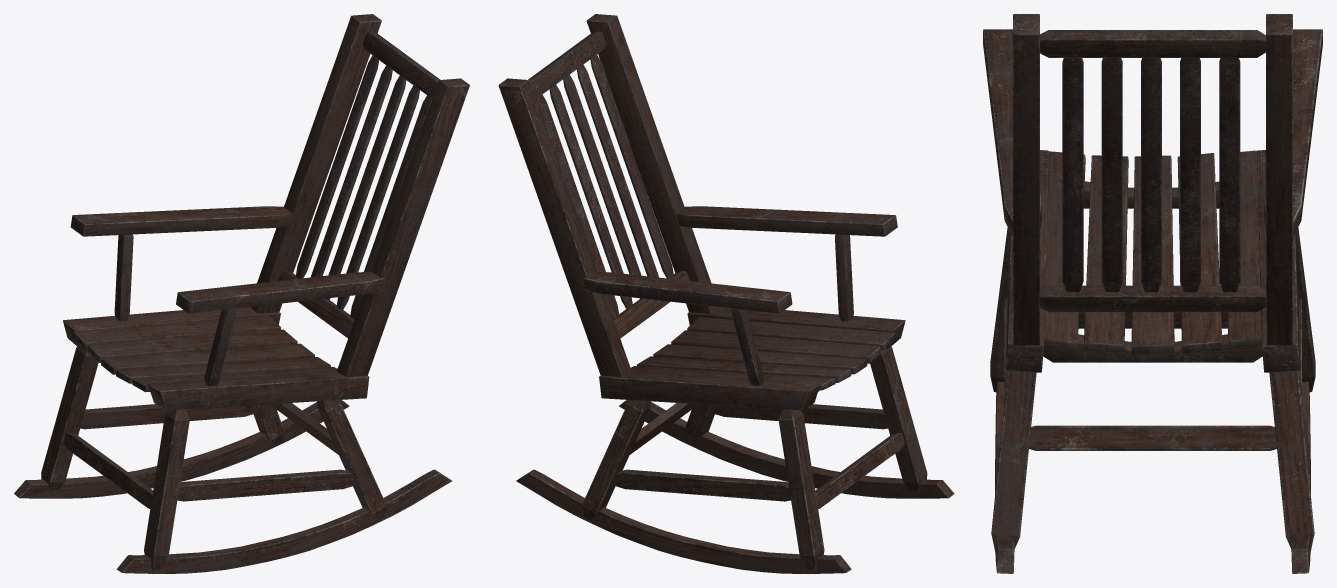
3 renders of one model, left to right at view 1: azimuth 30°, elevation 25°; view 2: azimuth 150°, elevation 25°; view 3: azimuth 270°, elevation 25°, orthographic. The views are drawn at different scales.
Visible parts, largest first — view 1: SideSlateSupports; view 2: SideSlateSupports; view 3: SideSlateSupports.
Part boxes in pixels (x1=…): SideSlateSupports: x1=14, y1=14, x2=469, y2=573; SideSlateSupports: x1=498, y1=14, x2=954, y2=573; SideSlateSupports: x1=983, y1=14, x2=1322, y2=573.
Size of the model in its own units: 0.944 by 1.09 by 0.5467.
Materials: 5 (5 with a texture image).
